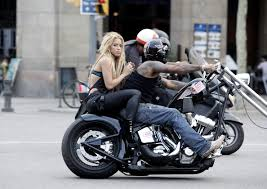helmet: (141, 39, 170, 60)
